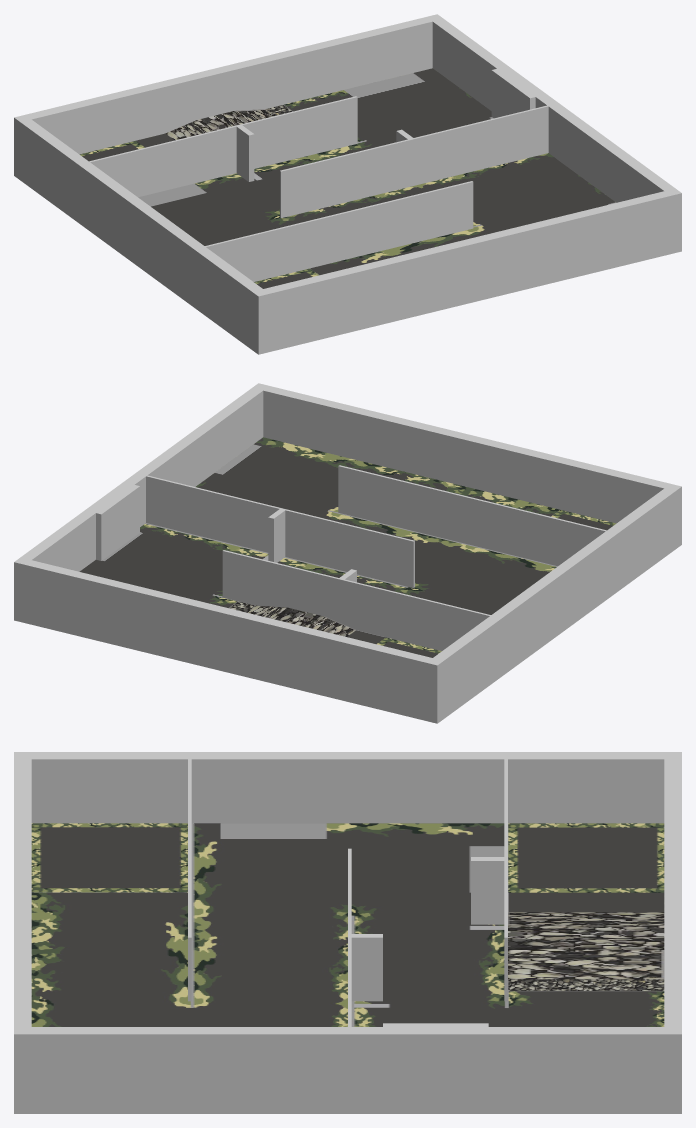
The model's file is untitled副本.dae.
3 renders of one model, top to bottom at view 1: azimuth 30°, elevation 25°; view 2: azimuth 150°, elevation 25°; view 3: azimuth 270°, elevation 25°, orthographic. The views are drawn at different scales.
Visible parts, largest first — view 1: 平面, 立方体.005, 立方体.004, 立方体.003, 立方体.002, 立方体, 立方体.001, 立方体.006, 立方体.009, 立方体.008, 立方体.012; view 2: 平面, 立方体.004, 立方体.005, 立方体.003, 立方体.002, 立方体, 立方体.001, 立方体.006, 立方体.009, 立方体.007, 立方体.012; view 3: 平面, 立方体.006, 立方体.003, 立方体.005, 立方体.004, 立方体.011, 立方体.012, 立方体.008, 立方体.010, 立方体.007, 立方体, 立方体.001 (+1 smaller).
Boxes of the visible parts, box(x1,y1,x2,y2) form: 平面: box(79, 68, 616, 288); 立方体.005: box(263, 191, 670, 351); 立方体.004: box(25, 17, 432, 154); 立方体.003: box(14, 115, 269, 354); 立方体.002: box(280, 105, 548, 218); 立方体: box(205, 181, 473, 281); 立方体.001: box(89, 96, 357, 197); 立方体.006: box(427, 14, 681, 253); 立方体.009: box(491, 69, 535, 118); 立方体.008: box(236, 125, 254, 181); 立方体.012: box(197, 111, 248, 131); 平面: box(79, 437, 616, 657); 立方体.004: box(25, 560, 432, 720); 立方体.005: box(263, 386, 670, 523); 立方体.003: box(426, 484, 681, 723); 立方体.002: box(146, 475, 414, 587); 立方体: box(338, 465, 606, 566); 立方体.001: box(222, 550, 490, 650); 立方体.006: box(14, 383, 268, 622); 立方体.009: box(96, 485, 139, 560); 立方体.007: box(268, 509, 285, 562); 立方体.012: box(272, 607, 324, 627); 平面: box(31, 823, 664, 1026); 立方体.006: box(14, 1027, 681, 1113); 立方体.003: box(14, 752, 681, 823); 立方体.005: box(14, 759, 31, 1026); 立方体.004: box(664, 759, 681, 1026); 立方体.011: box(508, 950, 664, 979); 立方体.012: box(508, 925, 664, 949); 立方体.008: box(471, 857, 506, 924); 立方体.010: box(508, 912, 664, 925); 立方体.007: box(348, 934, 382, 1001); 立方体: box(188, 759, 191, 1001); 立方体.001: box(504, 759, 507, 1001).
Bounding box in the file's own units: 3.8 × 3.8 × 0.5.
